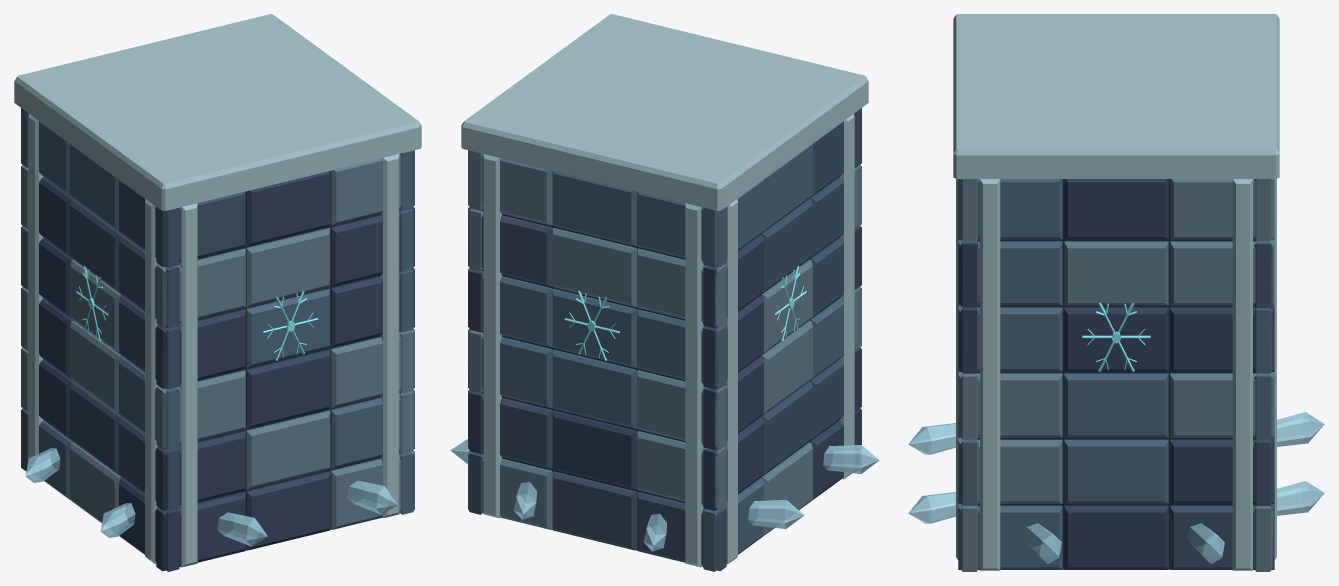
Rendered from wall_b.fbx.
3 views of the same model, side by side, from view 1: azimuth 30°, elevation 25°; view 2: azimuth 150°, elevation 25°; view 3: azimuth 270°, elevation 25° (orthographic). The views are drawn at different scales.
Parts seen in each view (by area): view 1: wall_b; view 2: wall_b; view 3: wall_b.
Part boxes in pixels (box(x1,y1,x2,y2)): wall_b: box(14, 14, 421, 571); wall_b: box(450, 14, 879, 571); wall_b: box(908, 14, 1324, 571).
Size of the model in its own units: 4 by 4.5 by 4.
